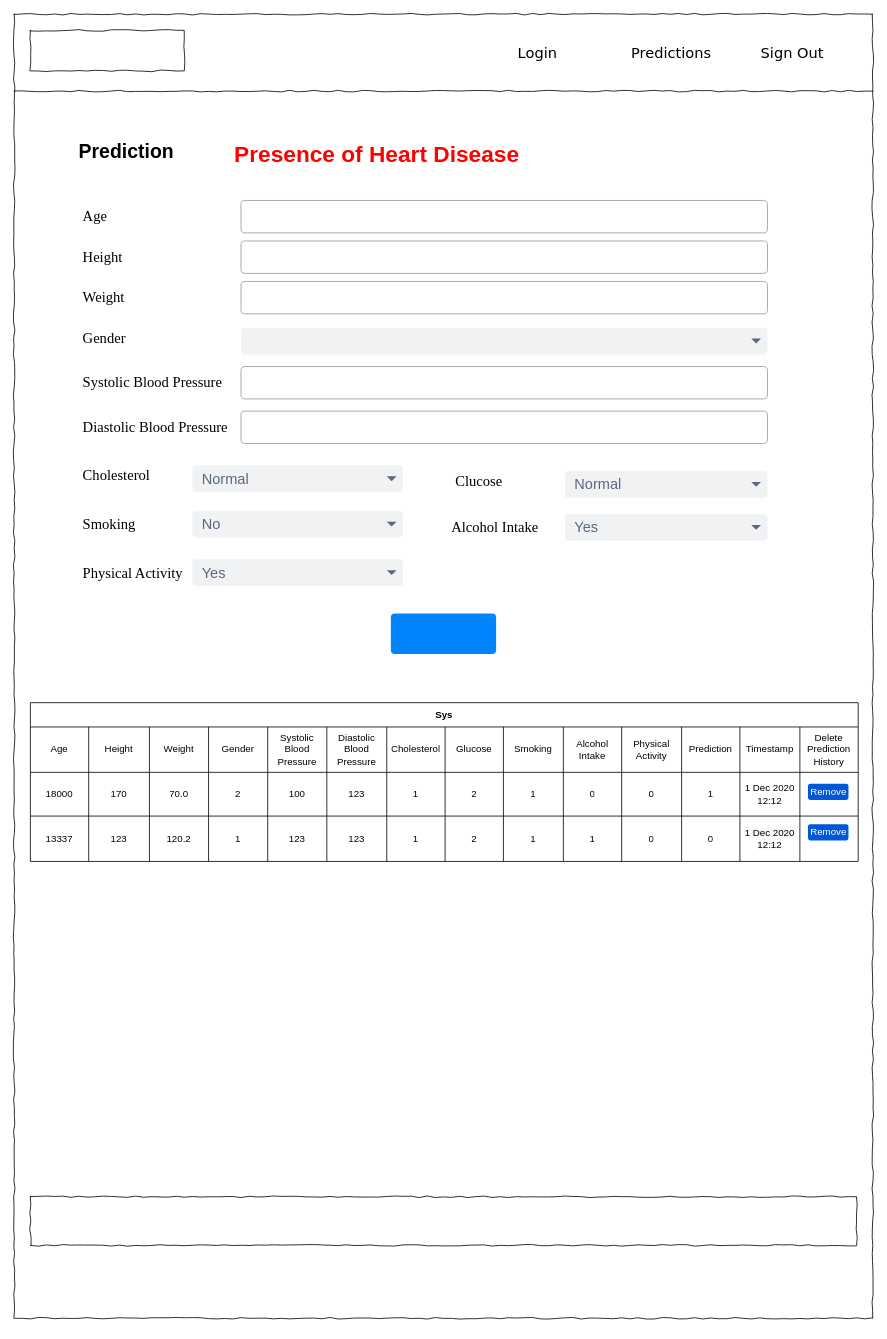
Image size: 887x1339. Some labels were removed from this diagram. Here are the shapes that lost their labels. From the top down, the centre of each, then its label:
pixel 107 50: LOGO
pixel 504 340: Male
pixel 443 633: Submit
